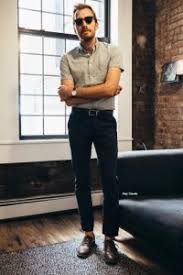F_belt: (67, 104, 120, 123)
F_dress pants: (58, 114, 129, 240)
